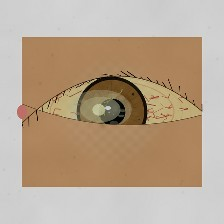corneal_ulcer: (68, 83, 133, 136)
